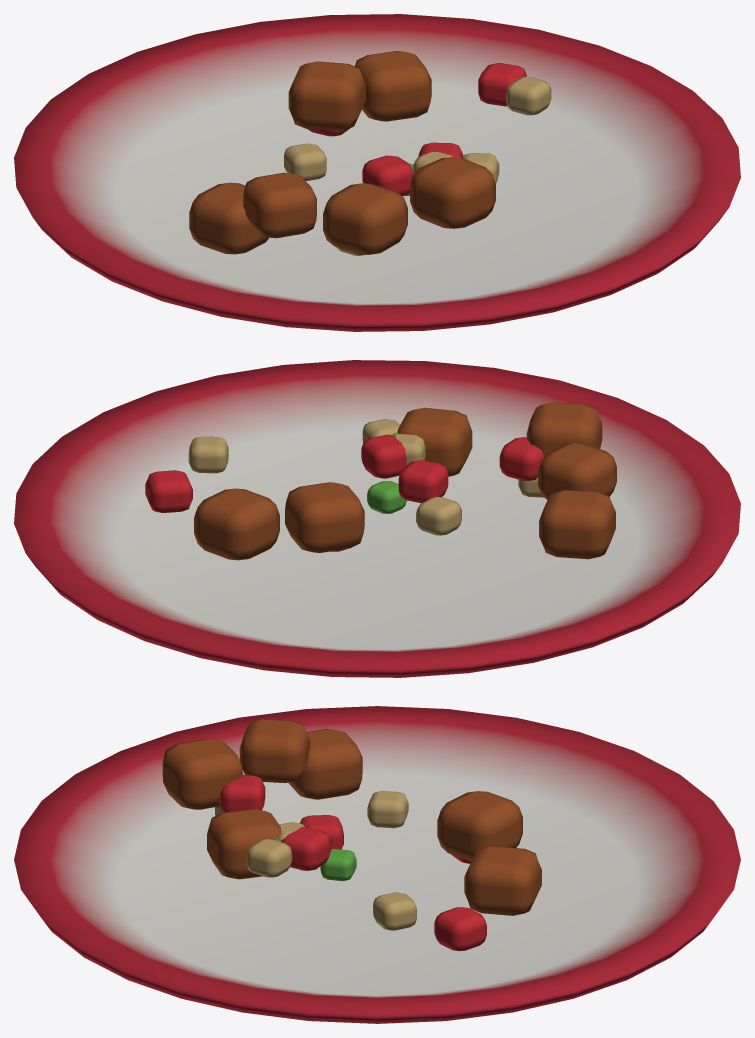
Rendered from item_dish_kungpao.glb.
The picture shows the model from 3 angles, top to bottom: view 1: azimuth 30°, elevation 25°; view 2: azimuth 150°, elevation 25°; view 3: azimuth 270°, elevation 25°; orthographic projection.
Parts seen in each view (by area): view 1: item_dish_kungpao_main; view 2: item_dish_kungpao_main; view 3: item_dish_kungpao_main.
Boxes of the visible parts, box(x1,y1,x2,y2) form: item_dish_kungpao_main: box(14, 14, 740, 331); item_dish_kungpao_main: box(14, 360, 740, 677); item_dish_kungpao_main: box(14, 706, 740, 1023).
Bounding box in the file's own units: 0.26 × 0.0449 × 0.26.
